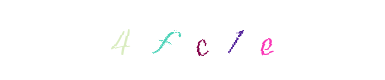1: (178, 0, 258, 80)
4: (125, 0, 205, 80)
C: (152, 0, 232, 80)
E: (213, 0, 293, 80)
F: (126, 0, 206, 80)
